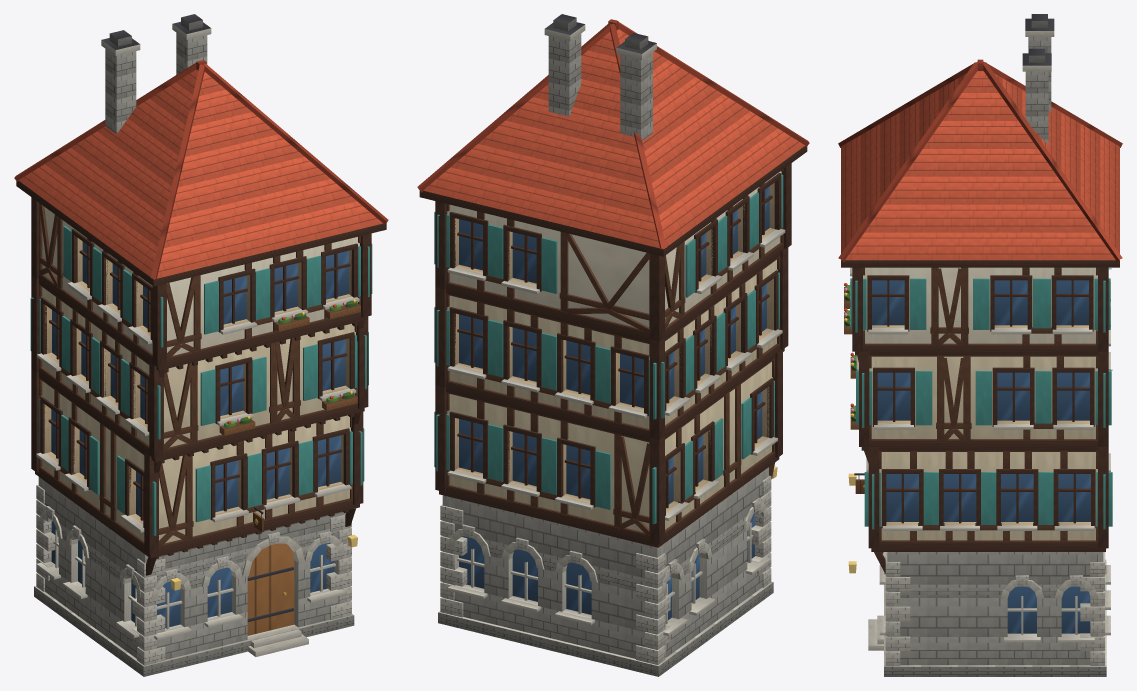
File: biz_inn_01.glb
3 renders of one model, left to right at view 1: azimuth 30°, elevation 25°; view 2: azimuth 150°, elevation 25°; view 3: azimuth 270°, elevation 25°, orthographic. The views are drawn at different scales.
Parts seen in each view (by area): view 1: biz_inn_01; view 2: biz_inn_01; view 3: biz_inn_01.
Part boxes in pixels (x1,y1,x2,y2): biz_inn_01: (14, 14, 388, 676); biz_inn_01: (417, 14, 809, 676); biz_inn_01: (838, 14, 1122, 676).
Bounding box in the file's own units: 8.49 × 19.53 × 8.66.
1 material, 1 textured.
